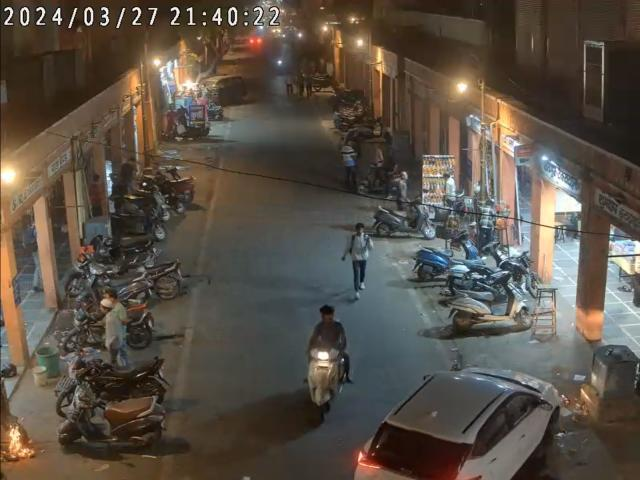car: (346, 362, 568, 476)
helmet: (318, 303, 337, 321)
motorbike: (57, 356, 173, 408), (63, 256, 140, 296)
person: (99, 289, 132, 368), (347, 217, 375, 297)
scooty: (57, 388, 168, 456), (444, 276, 530, 338), (449, 242, 514, 287), (412, 235, 476, 279), (374, 198, 436, 240)
scooty-rider: (306, 304, 352, 424)
